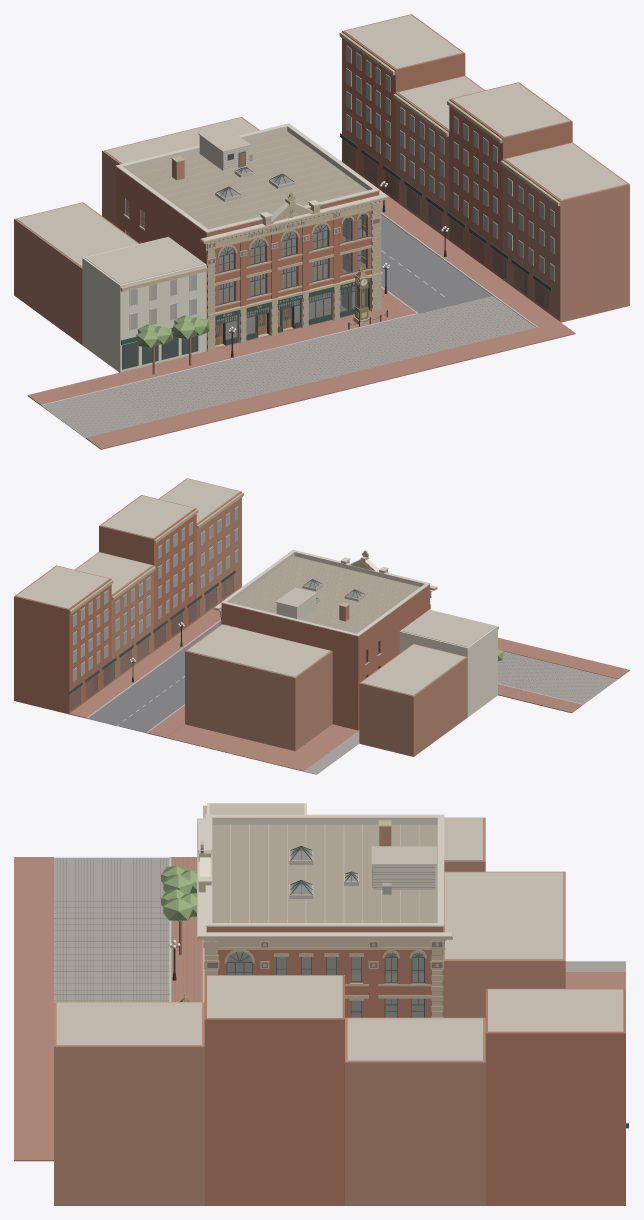
File: clay-gastown-heritage-commercial-clay-v002.glb
The picture shows the model from 3 angles, top to bottom: view 1: azimuth 30°, elevation 25°; view 2: azimuth 150°, elevation 25°; view 3: azimuth 270°, elevation 25°; orthographic projection. The views are drawn at different scales.
Parts seen in each view (by area): view 1: CLAY_BRICK2, CLAY_WALL, CLAY_MEMBRANE, CLAY_COBBLE, CLAY_PAVER, CLAY_GLASS, CLAY_TRIM, CLAY_ROOF, CLAY_STONE, CLAY_CREAM, CLAY_JOINT, CLAY_ASPHALT (+8 smaller); view 2: CLAY_BRICK2, CLAY_WALL, CLAY_MEMBRANE, CLAY_PAVER, CLAY_TRIM, CLAY_ROOF, CLAY_GLASS, CLAY_COBBLE, CLAY_ASPHALT, CLAY_CREAM, CLAY_STONE, CLAY_JOINT (+3 smaller); view 3: CLAY_WALL, CLAY_BRICK2, CLAY_MEMBRANE, CLAY_ROOF, CLAY_COBBLE, CLAY_PAVER, CLAY_TRIM, CLAY_JOINT, CLAY_STONE, CLAY_GLASS, CLAY_INTERIOR, CLAY_PLANTING (+2 smaller).
Boxes of the visible parts, box(x1,y1,x2,y2) form: CLAY_BRICK2: box(14, 75, 629, 344); CLAY_WALL: box(116, 14, 572, 350); CLAY_MEMBRANE: box(17, 15, 626, 284); CLAY_COBBLE: box(42, 296, 535, 438); CLAY_PAVER: box(27, 197, 575, 449); CLAY_GLASS: box(123, 47, 553, 368); CLAY_TRIM: box(115, 45, 554, 330); CLAY_ROOF: box(128, 131, 367, 229); CLAY_STONE: box(120, 32, 560, 351); CLAY_CREAM: box(82, 237, 206, 372); CLAY_JOINT: box(33, 147, 533, 436); CLAY_ASPHALT: box(364, 214, 492, 313); CLAY_BRICK2: box(75, 478, 467, 756); CLAY_WALL: box(14, 495, 429, 730); CLAY_MEMBRANE: box(16, 478, 495, 695); CLAY_PAVER: box(69, 608, 629, 771); CLAY_TRIM: box(73, 506, 436, 726); CLAY_ROOF: box(231, 556, 420, 633); CLAY_GLASS: box(70, 507, 379, 710); CLAY_COBBLE: box(303, 651, 617, 774); CLAY_ASPHALT: box(88, 621, 220, 732); CLAY_CREAM: box(399, 609, 497, 717); CLAY_STONE: box(69, 492, 498, 665); CLAY_JOINT: box(152, 617, 612, 734); CLAY_WALL: box(204, 927, 625, 1205); CLAY_BRICK2: box(54, 817, 565, 1205); CLAY_MEMBRANE: box(56, 803, 623, 1061); CLAY_ROOF: box(212, 824, 437, 922); CLAY_COBBLE: box(54, 857, 625, 1001); CLAY_PAVER: box(14, 857, 625, 1161); CLAY_TRIM: box(198, 814, 629, 1122); CLAY_JOINT: box(54, 858, 442, 1016); CLAY_STONE: box(54, 805, 452, 1017); CLAY_GLASS: box(227, 847, 424, 1017); CLAY_INTERIOR: box(227, 951, 424, 1016); CLAY_PLANTING: box(161, 866, 196, 921).
Bounding box in the file's own units: 82 × 20.56 × 61.4.
